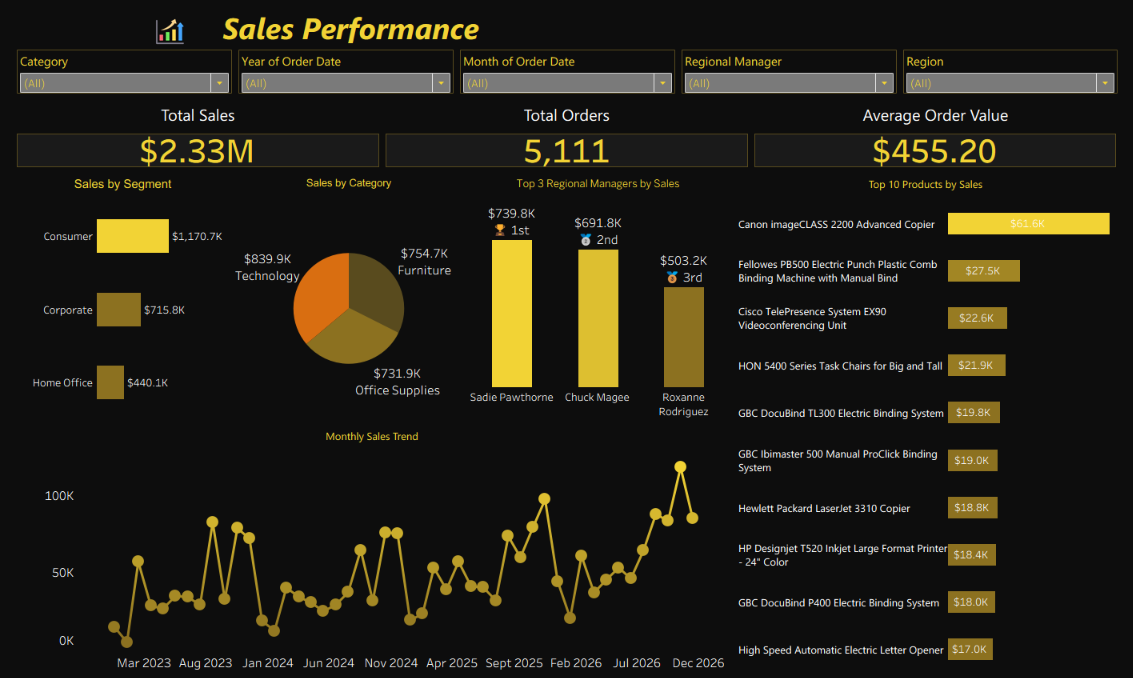

The dashboard page shown, as its layout file describes it:
{"tool":"tableau","page":{"name":"Sales Performance","canvas":[1400,850],"ordinal":1},"visuals":[{"type":"title","box":[8,8,1384,47]},{"type":"image","param":"Image/trend.png","box":[131,13,48,36]},{"type":"filter","title":"Average Order Value","param":"[federated.17jq99y0l6ibxz1crijgj0ft7ye0].[none:Category:nk]","box":[8,55,277,63]},{"type":"filter","title":"Average Order Value","param":"[federated.17jq99y0l6ibxz1crijgj0ft7ye0].[yr:Order Date:ok]","box":[285,55,277,63]},{"type":"filter","title":"Average Order Value","param":"[federated.17jq99y0l6ibxz1crijgj0ft7ye0].[mn:Order Date:ok]","box":[562,55,277,63]},{"type":"filter","title":"Average Order Value","param":"[federated.17jq99y0l6ibxz1crijgj0ft7ye0].[none:Regional Manager:nk]","box":[839,55,277,63]},{"type":"filter","title":"Sales by Regional Manager","param":"[federated.17jq99y0l6ibxz1crijgj0ft7ye0].[none:Region (People):nk]","box":[1116,55,276,63]},{"type":"worksheet","title":"Total Sales","mark":"Automatic","box":[8,117.7,461.3,92.3]},{"type":"worksheet","title":"Total Orders","mark":"Automatic","box":[469.3,117.7,461.3,92.3]},{"type":"worksheet","title":"Average Order Value","mark":"Automatic","box":[930.6,117.7,461.3,92.3]},{"type":"worksheet","title":"Sales by Segment","mark":"Bar","rows":["Segment"],"cols":["Sales"],"box":[8,210,273,315]},{"type":"worksheet","title":"Sales by Category","mark":"Pie","box":[281,210,292,315]},{"type":"worksheet","title":"Sales by Regional Manager","mark":"Automatic","rows":["Sales"],"cols":["Regional Manager"],"box":[573,210,331,315]},{"type":"worksheet","title":"Top 10 Products by Sales","mark":"Automatic","rows":["Product Name"],"cols":["Sales"],"box":[904,210,488,632]},{"type":"worksheet","title":"Monthly Sales Trend","mark":"Automatic","rows":["Sales","Sales"],"cols":["Order Date"],"box":[8,525,896,317]}]}

Visuals, with their boxes in screenshot pixels (x1, y1, x2, y2), scaled from the page's 1400x850 canvas onto the 1133x678 screenshot:
title: bbox=[6, 6, 1127, 44]
image: bbox=[106, 10, 145, 39]
"Average Order Value" filter: bbox=[6, 44, 231, 94]
"Average Order Value" filter: bbox=[231, 44, 455, 94]
"Average Order Value" filter: bbox=[455, 44, 679, 94]
"Average Order Value" filter: bbox=[679, 44, 903, 94]
"Sales by Regional Manager" filter: bbox=[903, 44, 1127, 94]
"Total Sales" worksheet: bbox=[6, 94, 380, 168]
"Total Orders" worksheet: bbox=[380, 94, 753, 168]
"Average Order Value" worksheet: bbox=[753, 94, 1126, 168]
"Sales by Segment" worksheet (Bar marks): bbox=[6, 168, 227, 419]
"Sales by Category" worksheet (Pie marks): bbox=[227, 168, 464, 419]
"Sales by Regional Manager" worksheet: bbox=[464, 168, 732, 419]
"Top 10 Products by Sales" worksheet: bbox=[732, 168, 1127, 672]
"Monthly Sales Trend" worksheet: bbox=[6, 419, 732, 672]
